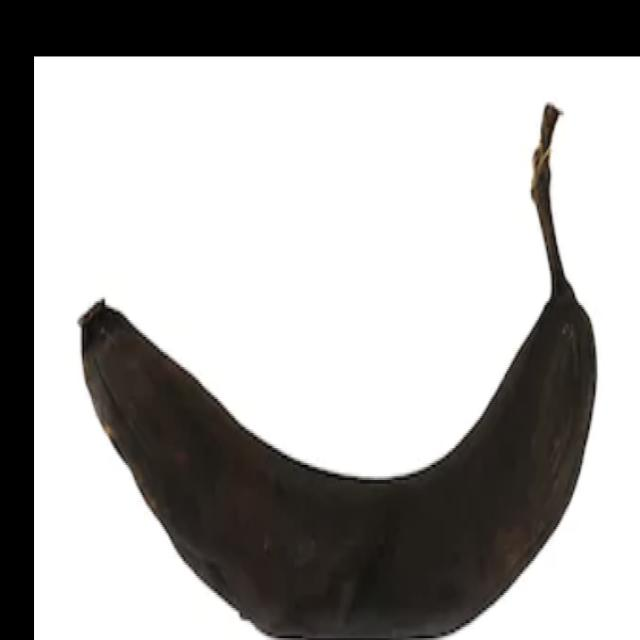Rotten: (51, 74, 616, 640)
